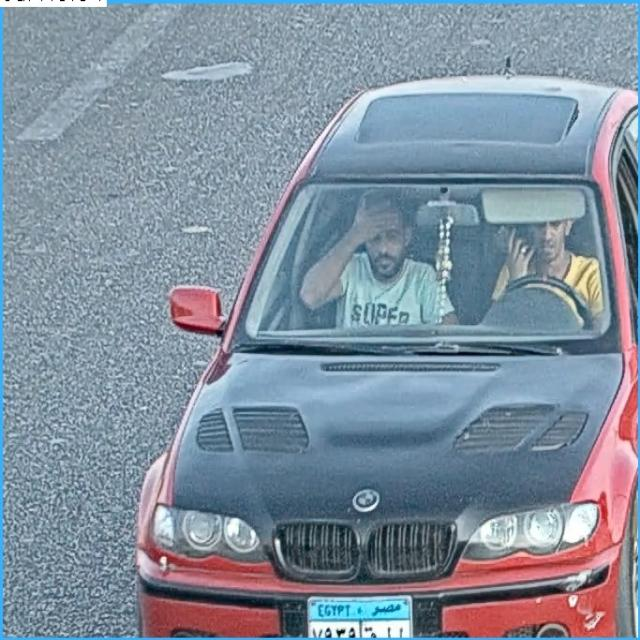windshield: (239, 178, 617, 341)
